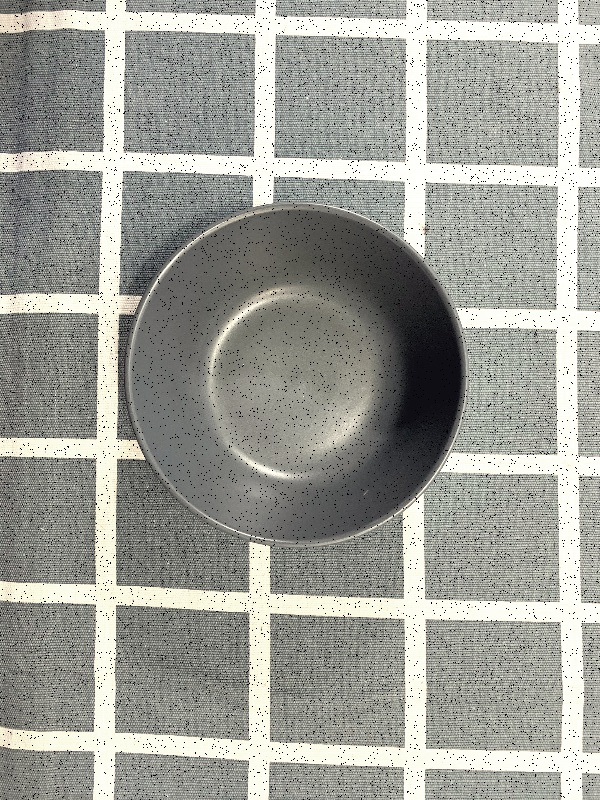bowl_big: (111, 180, 474, 557)
